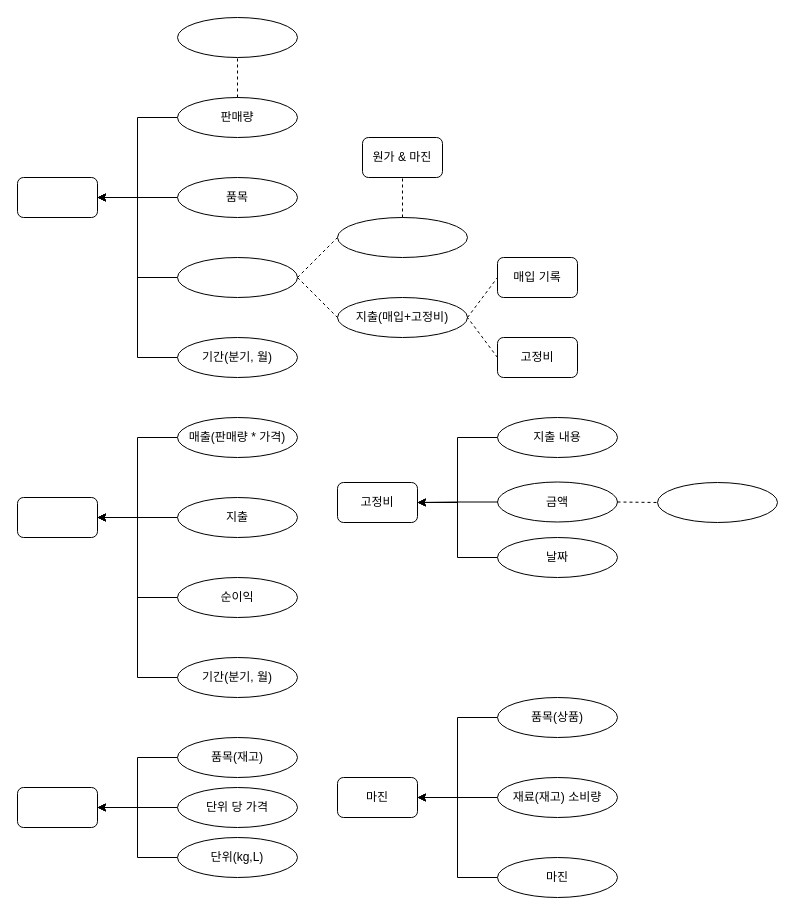
Image size: 795x915. Some labels were removed from this diagram. The centre of each missing label's shape, as x and y in pixels:
매출: [57,517]
순수익(마진*판매량): [402,237]
순이익(순수익 - 지출): [237,277]
원가(재료): [57,807]
총금액: [717,502]
판매 기록: [237,37]
판매 순위: [57,197]
